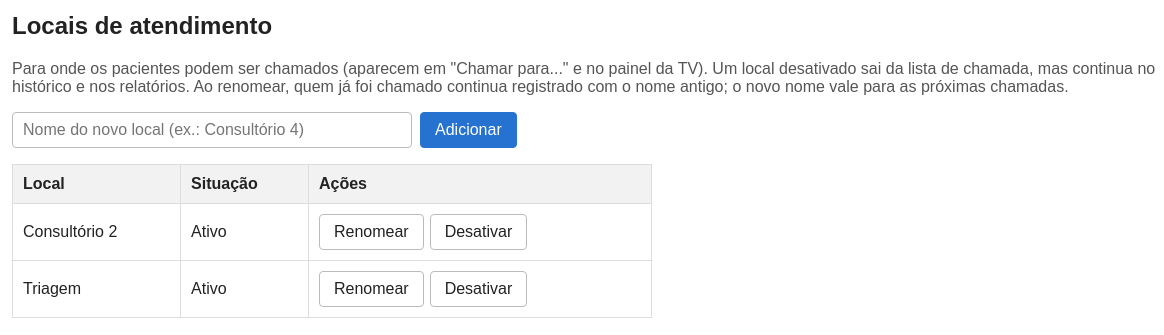
Scenario: Esc desiste sem salvar nada
Expected: the cell "Triagem" is shown, [12,260,181,317]
Click the button "Renomear" in the row of "Triagem" at (371, 289), box [319,271,424,307]
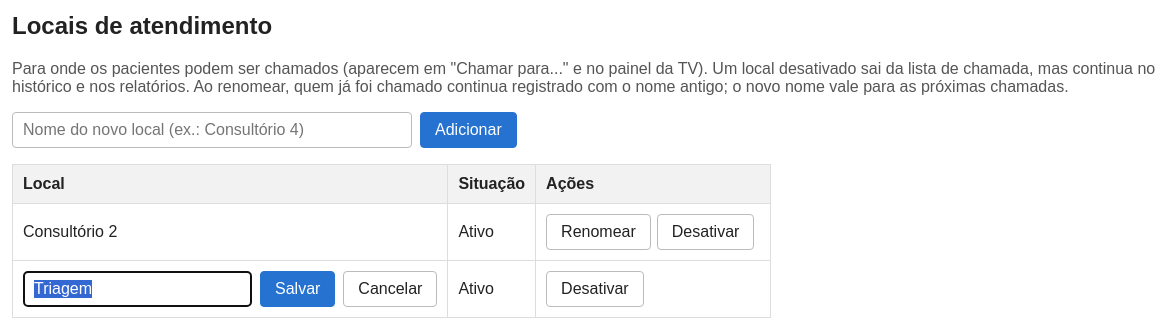
Type "Outro nome" into the field named "Novo nome para Triagem" at (138, 289), box [23,271,252,307]
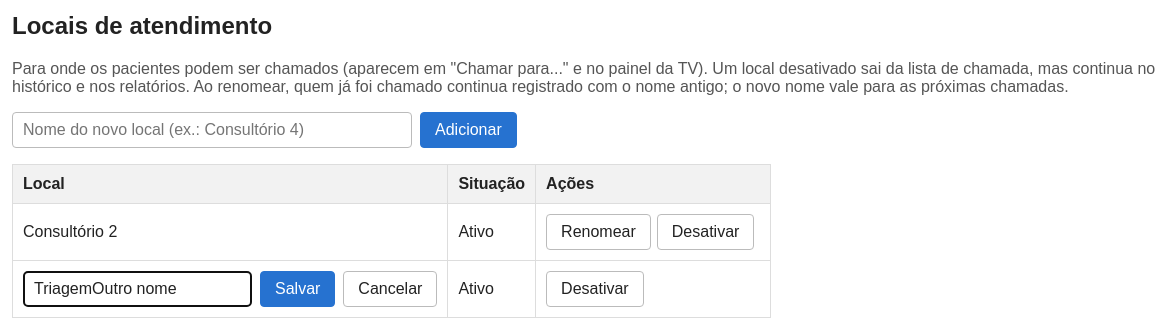
Press Escape
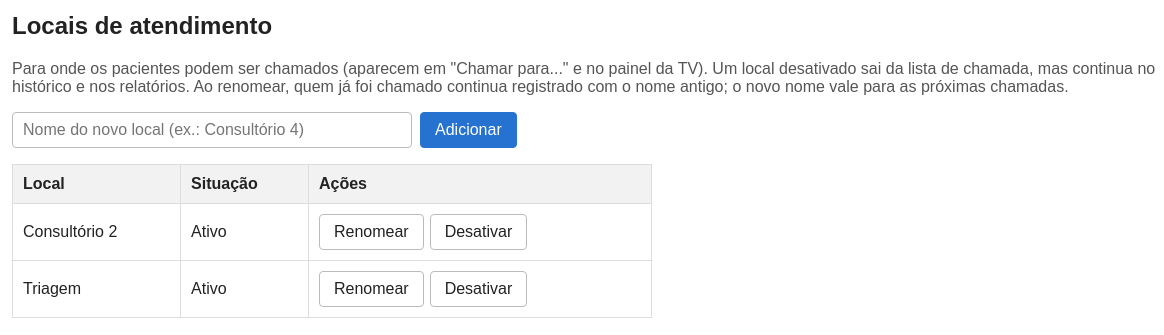
Expected: the cell "Triagem" is shown, [12,260,181,317]
